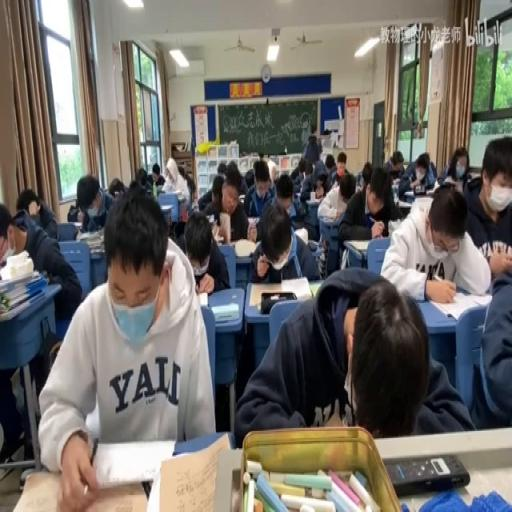calculator: (146, 430, 232, 510), (8, 466, 146, 510), (0, 249, 52, 320), (248, 276, 313, 309), (426, 287, 490, 320), (75, 228, 104, 252), (210, 300, 238, 322), (234, 236, 256, 256), (218, 210, 230, 244), (346, 239, 370, 252), (293, 225, 308, 243), (320, 208, 339, 222), (386, 219, 402, 235), (395, 203, 411, 219), (307, 282, 321, 297), (403, 189, 415, 202), (307, 239, 319, 252), (306, 196, 322, 205), (197, 290, 207, 304), (69, 220, 83, 230), (205, 213, 215, 225), (176, 189, 186, 201), (155, 184, 165, 194), (391, 176, 400, 186), (414, 184, 423, 194), (237, 192, 245, 202), (160, 204, 173, 210), (424, 189, 435, 196)
paper: (40, 185, 214, 512), (232, 268, 466, 442), (382, 182, 494, 302), (470, 263, 511, 427), (248, 202, 322, 283), (337, 165, 398, 257), (178, 209, 232, 294), (72, 170, 114, 232), (14, 188, 58, 240), (397, 150, 435, 200), (244, 158, 274, 219), (158, 180, 186, 234), (436, 145, 470, 189), (196, 165, 227, 212), (273, 170, 295, 218), (223, 158, 245, 199), (179, 166, 197, 212), (0, 222, 19, 263), (330, 150, 349, 188), (290, 158, 308, 193), (301, 134, 321, 165), (382, 149, 404, 175), (108, 176, 126, 199), (149, 162, 165, 186), (313, 162, 326, 188), (66, 202, 80, 223), (134, 166, 148, 186), (267, 158, 278, 182), (11, 209, 27, 225), (360, 162, 371, 184), (466, 169, 480, 182), (176, 164, 186, 179), (325, 154, 334, 170), (216, 162, 226, 176), (258, 151, 264, 159)
person: (386, 452, 470, 494), (230, 468, 242, 510)
